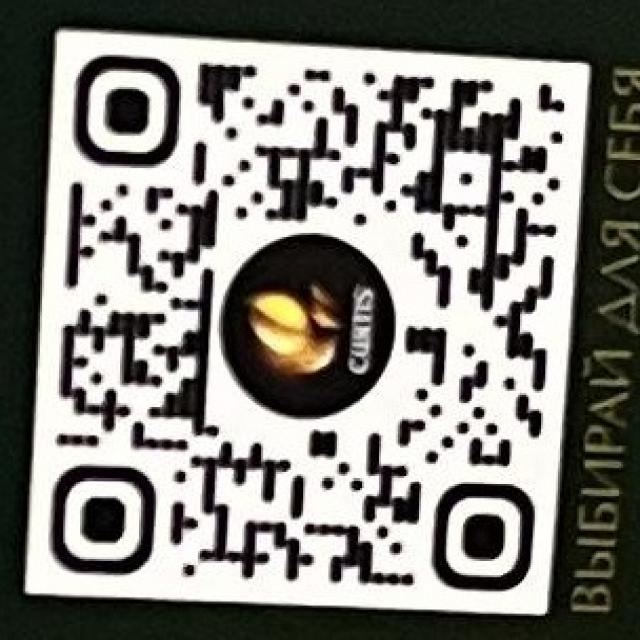QR_CODE: (47, 51, 566, 594)
